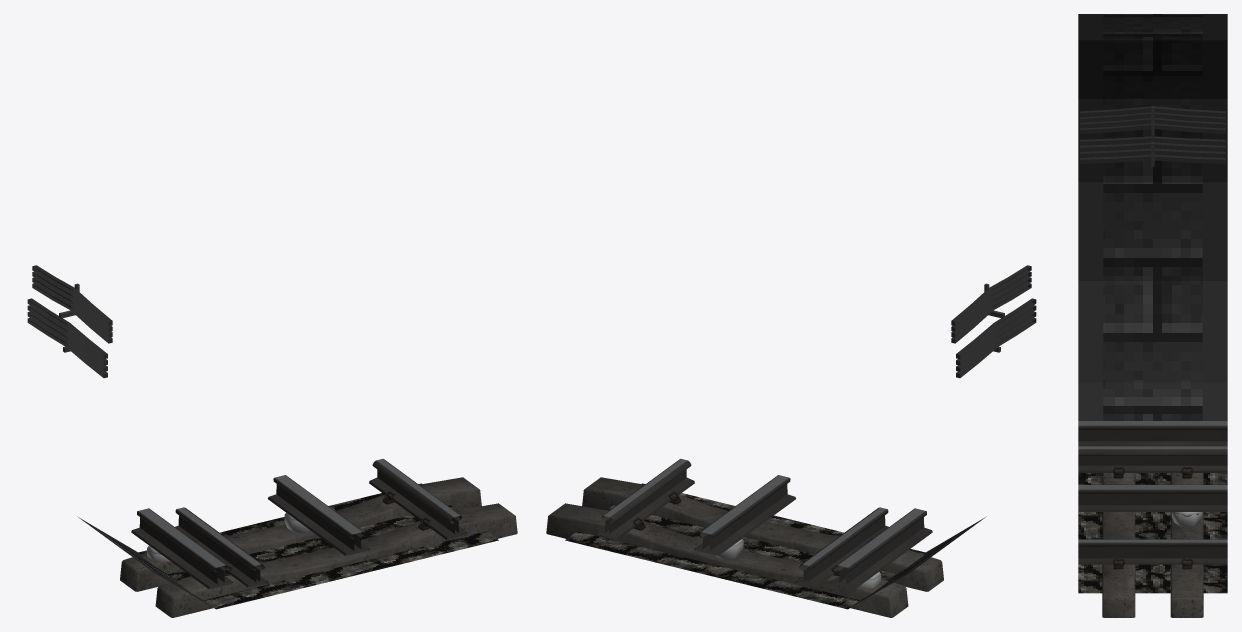
The model's file is track.obj.
3 renders of one model, left to right at view 1: azimuth 30°, elevation 25°; view 2: azimuth 150°, elevation 25°; view 3: azimuth 270°, elevation 25°, orthographic. The views are drawn at different scales.
Parts seen in each view (by area): view 1: Full_LOD0_LOD0.007, Cylinder_Cylinder.002, Full_LOD0_LOD0, Full_LOD0_LOD0.002, Full_LOD0_LOD0.001, Full_LOD0_LOD0.003, cube.002_cube.008, cube.003_cube.009; view 2: Full_LOD0_LOD0.002, Cylinder_Cylinder.002, Full_LOD0_LOD0.007, Full_LOD0_LOD0, Full_LOD0_LOD0.001, Full_LOD0_LOD0.003, cube.002_cube.008, cube.003_cube.009; view 3: Cylinder_Cylinder.002, Full_LOD0_LOD0, Full_LOD0_LOD0.001, Full_LOD0_LOD0.003, cube.002_cube.008, cube.003_cube.009, Full_LOD0_LOD0.007, Full_LOD0_LOD0.002, Sphere.002.
Part boxes in pixels (x1,y1,x2,y2): Full_LOD0_LOD0.007: [155, 503, 517, 617]; Cylinder_Cylinder.002: [77, 483, 498, 609]; Full_LOD0_LOD0: [175, 459, 467, 587]; Full_LOD0_LOD0.002: [120, 477, 481, 591]; Full_LOD0_LOD0.001: [268, 475, 369, 555]; Full_LOD0_LOD0.003: [131, 508, 232, 589]; cube.002_cube.008: [27, 298, 107, 378]; cube.003_cube.009: [32, 265, 112, 343]; Full_LOD0_LOD0.002: [546, 503, 908, 617]; Cylinder_Cylinder.002: [565, 483, 986, 609]; Full_LOD0_LOD0.007: [582, 477, 943, 591]; Full_LOD0_LOD0: [596, 459, 888, 587]; Full_LOD0_LOD0.001: [694, 475, 795, 555]; Full_LOD0_LOD0.003: [831, 508, 932, 589]; cube.002_cube.008: [956, 298, 1036, 378]; cube.003_cube.009: [951, 265, 1031, 343]; Cylinder_Cylinder.002: [1078, 14, 1227, 593]; Full_LOD0_LOD0: [1078, 446, 1227, 564]; Full_LOD0_LOD0.001: [1078, 484, 1227, 511]; Full_LOD0_LOD0.003: [1078, 421, 1227, 446]; cube.002_cube.008: [1080, 136, 1225, 163]; cube.003_cube.009: [1080, 106, 1225, 133]; Full_LOD0_LOD0.007: [1102, 473, 1135, 617]; Full_LOD0_LOD0.002: [1170, 473, 1203, 617]; Sphere.002: [1171, 512, 1202, 526].
Size of the model in its own units: 3.33 by 3.73 by 1.02.
8 materials, 8 textured.
